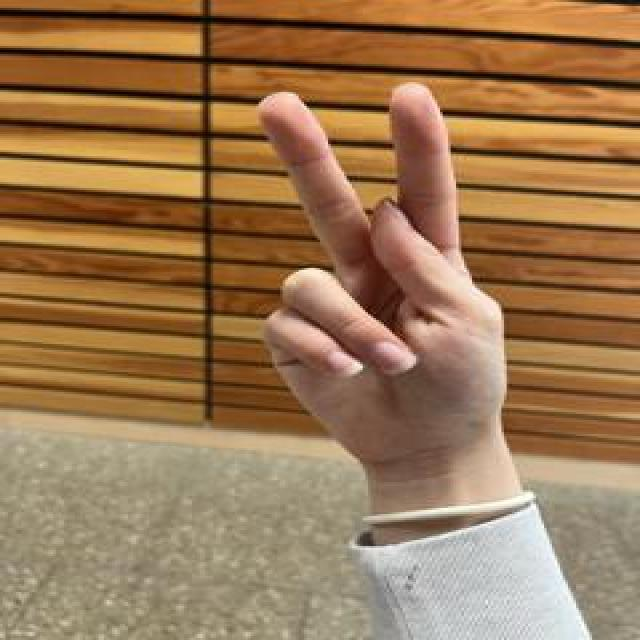K: (249, 77, 516, 473)
